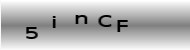5: (25, 26, 38, 39)
C: (98, 14, 112, 27)
F: (116, 19, 128, 32)
i: (50, 15, 56, 28)
n: (74, 14, 87, 24)
